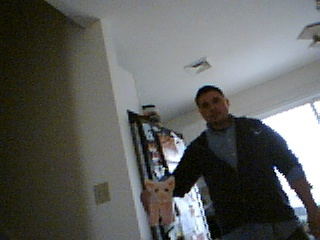piggy: (142, 175, 178, 228)
